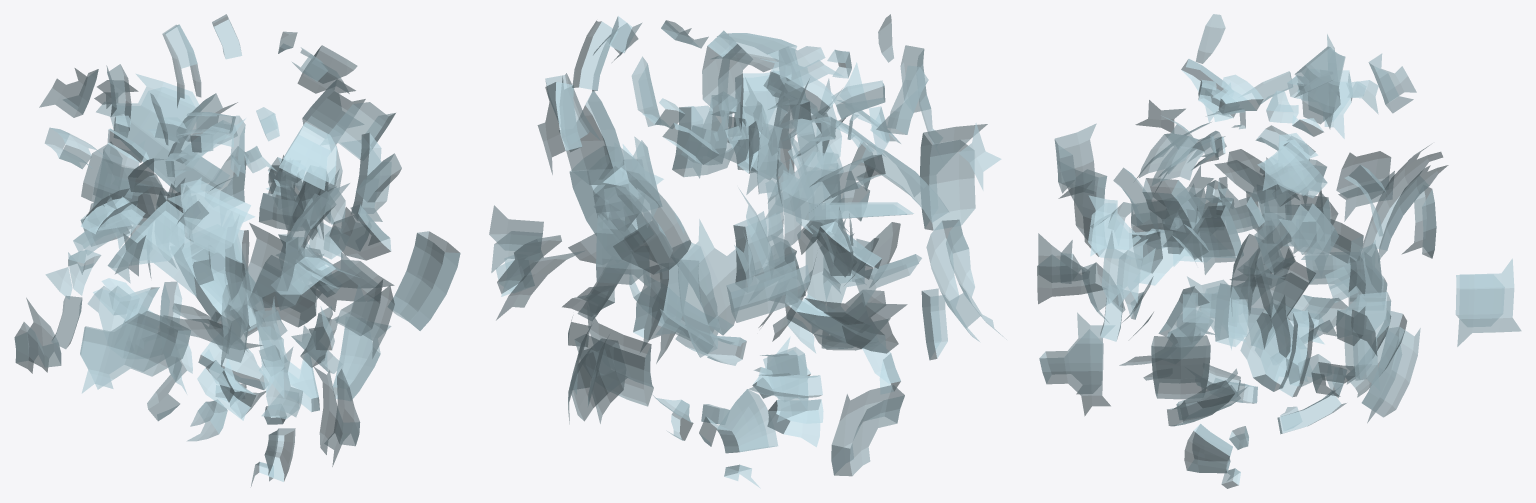
The model's file is asset.gltf.
3 views of the same model, side by side, from view 1: azimuth 30°, elevation 25°; view 2: azimuth 150°, elevation 25°; view 3: azimuth 270°, elevation 25° (orthographic). The views are drawn at different scales.
Visible parts, largest first — view 1: Sphere; view 2: Sphere; view 3: Sphere.
Boxes of the visible parts, x1,y1,x2,y2 form: Sphere: [14, 14, 460, 486]; Sphere: [489, 14, 1006, 488]; Sphere: [1037, 14, 1521, 488].
Size of the model in its own units: 2.7 by 3.06 by 3.15.
